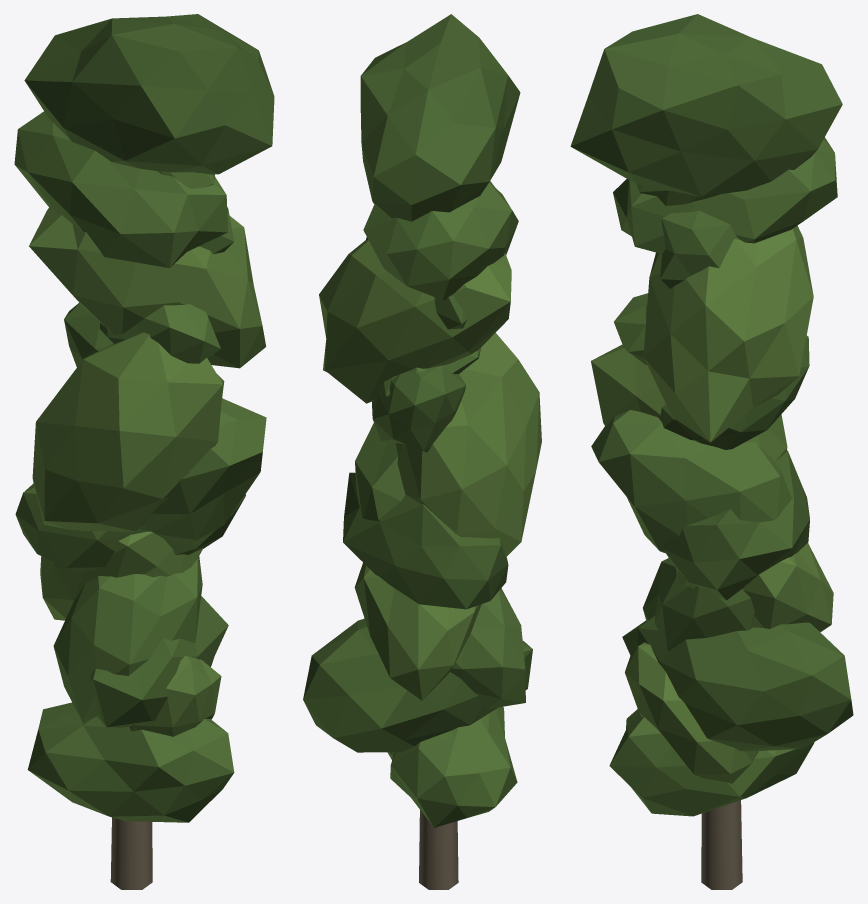
The model's file is derevo_topolia.glb.
The picture shows the model from 3 angles, left to right: view 1: azimuth 30°, elevation 25°; view 2: azimuth 150°, elevation 25°; view 3: azimuth 270°, elevation 25°; orthographic projection. The views are drawn at different scales.
Visible parts, largest first — view 1: leaves (×14), trunk; view 2: leaves (×13), trunk; view 3: leaves (×15), trunk.
Part boxes in pixels (x1,y1,x2,y2): leaves (×14): (14, 14, 274, 822); trunk: (110, 817, 152, 889); leaves (×13): (303, 14, 541, 827); trunk: (419, 810, 458, 889); leaves (×15): (570, 14, 853, 816); trunk: (701, 800, 742, 889).
Size of the model in its own units: 3.43 by 13.04 by 3.9.
